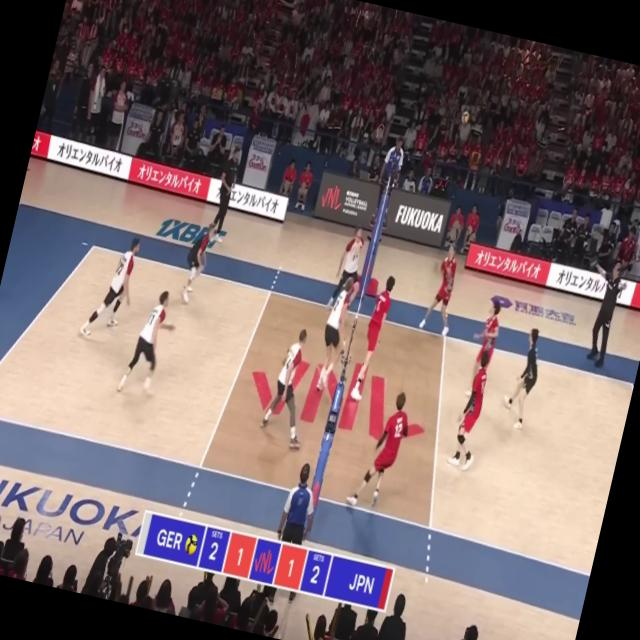referee: (260, 458, 324, 606)
team_one: (257, 324, 326, 451), (78, 230, 144, 346), (116, 284, 182, 400), (311, 274, 358, 392), (325, 223, 372, 314), (176, 218, 216, 307)
team_two: (344, 384, 416, 514), (444, 348, 497, 472), (348, 272, 396, 403), (496, 324, 547, 432), (459, 296, 506, 400), (418, 241, 468, 337)
